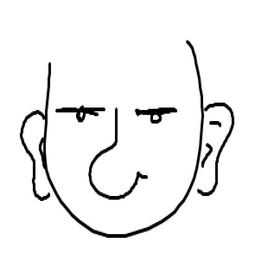large_ear: (189, 100, 242, 198), (14, 102, 52, 206)
large_nose: (85, 106, 150, 201)
small_eye: (53, 104, 105, 125), (135, 104, 176, 127)
